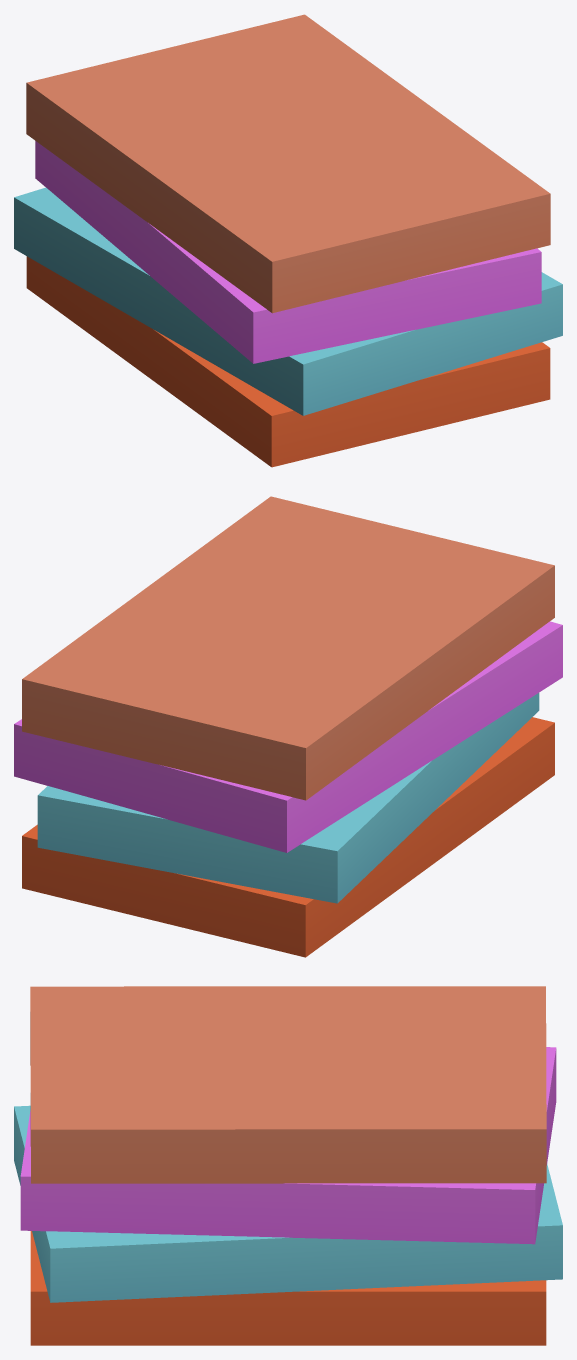
File: cloth.fbx
3 views of the same model, one above another, from view 1: azimuth 30°, elevation 25°; view 2: azimuth 150°, elevation 25°; view 3: azimuth 270°, elevation 25° (orthographic). The views are drawn at different scales.
Visible parts, largest first — view 1: cloth; view 2: cloth; view 3: cloth.
Part boxes in pixels (x1,y1,x2,y2): cloth: [14, 14, 562, 467]; cloth: [14, 496, 562, 957]; cloth: [14, 986, 562, 1345].
Bounding box in the file's own units: 111 × 67.76 × 156.
Materials: 1 (1 with a texture image).
